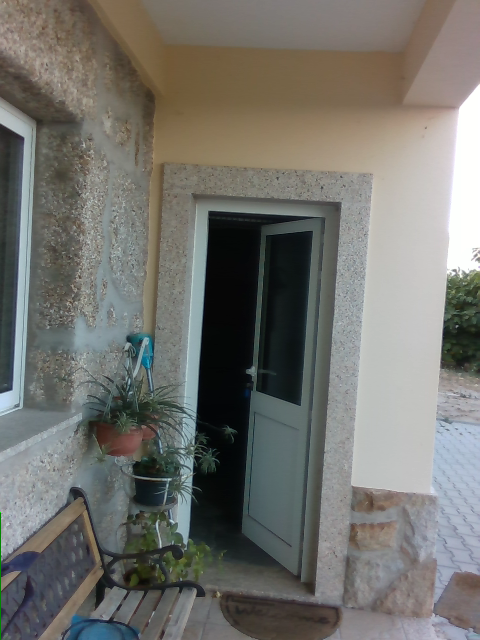semi: (173, 195, 339, 589)
